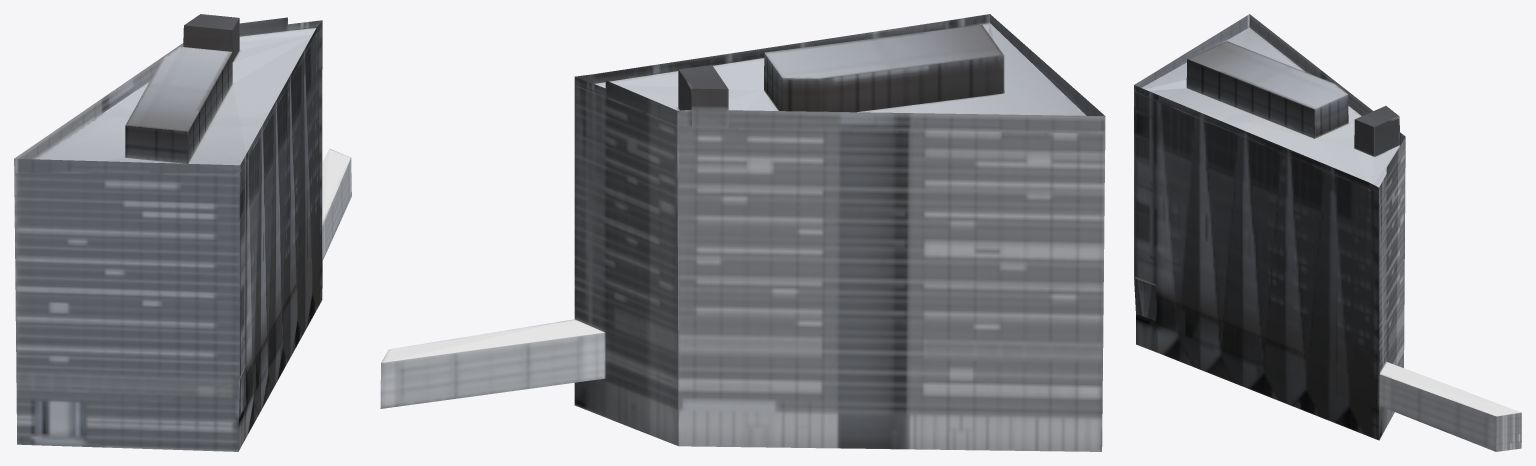
The model's file is 207c-offices.glb.
3 views of the same model, side by side, from view 1: azimuth 30°, elevation 25°; view 2: azimuth 150°, elevation 25°; view 3: azimuth 270°, elevation 25° (orthographic). The views are drawn at different scales.
Parts seen in each view (by area): view 1: 2.07-C.001; view 2: 2.07-C.001; view 3: 2.07-C.001.
Part boxes in pixels (x1,y1,x2,y2): 2.07-C.001: [14, 14, 351, 451]; 2.07-C.001: [380, 14, 1105, 451]; 2.07-C.001: [1134, 14, 1521, 451].
Bounding box in the file's own units: 81.06 × 49.87 × 63.51.
Materials: 1 (1 with a texture image).
